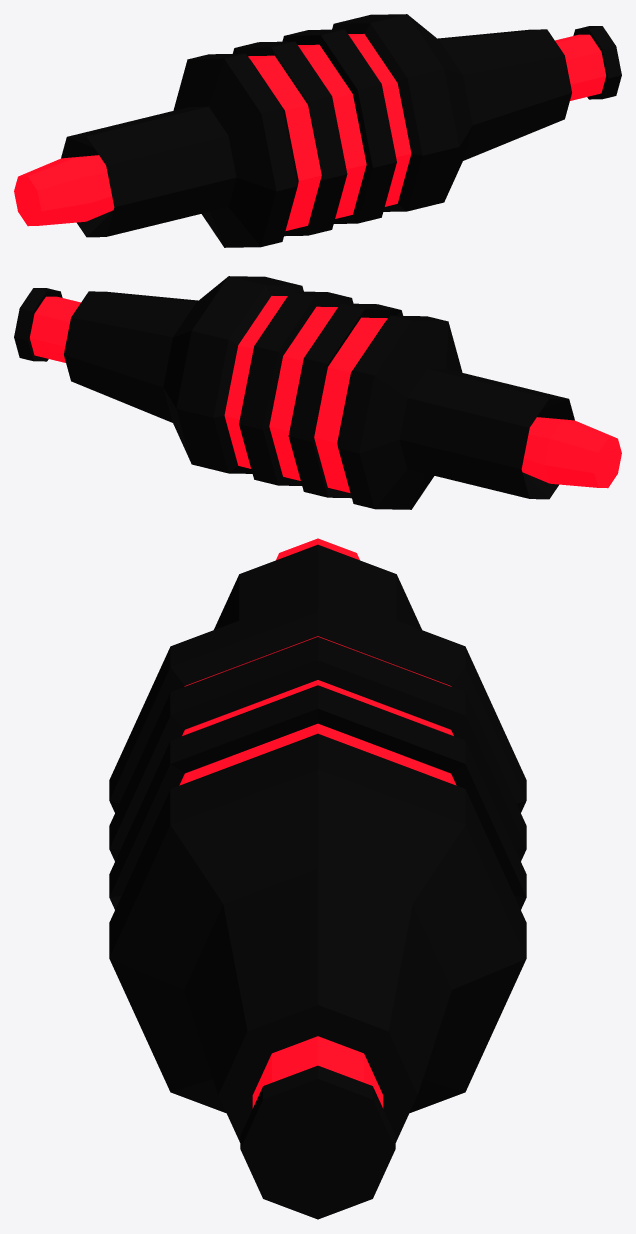
The model's file is LaserHand.fbx.
3 renders of one model, top to bottom at view 1: azimuth 30°, elevation 25°; view 2: azimuth 150°, elevation 25°; view 3: azimuth 270°, elevation 25°, orthographic. The views are drawn at different scales.
Visible parts, largest first — view 1: Circle; view 2: Circle; view 3: Circle.
Boxes of the visible parts, x1,y1,x2,y2 form: Circle: [14, 14, 621, 247]; Circle: [14, 276, 621, 509]; Circle: [109, 538, 526, 1219].
Bounding box in the file's own units: 636 × 200 × 200.
